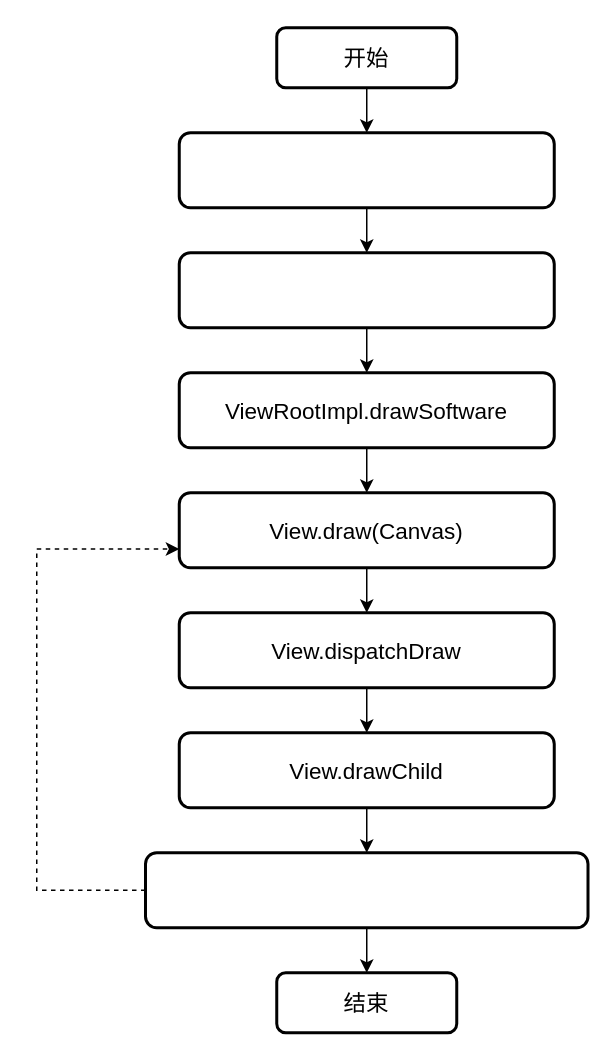
The diagram is 615 pixels wide and 1059 high, and some of its shapes have lost their labels. The centre of each missing label's shape, as x and y in pixels:
View.draw(Canvas, ViewGroup, long): (x=366, y=889)
ViewRootImpl.performDraw: (x=366, y=289)
ViewRootImpl.performTraversals: (x=366, y=169)
